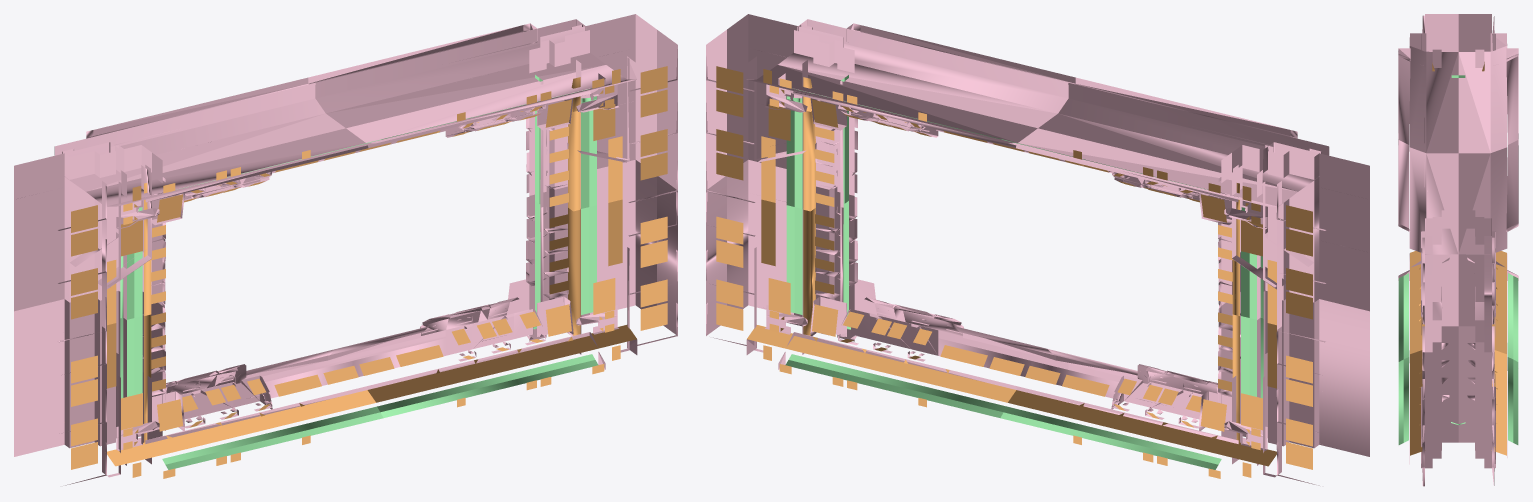
File: grimhex_building_3_floor_landingpad_corner_48x24_a_lod2.glb
3 views of the same model, side by side, from view 1: azimuth 30°, elevation 25°; view 2: azimuth 150°, elevation 25°; view 3: azimuth 270°, elevation 25° (orthographic). The views are drawn at different scales.
Bounding box in the file's own units: 80 × 36.04 × 16.86.
